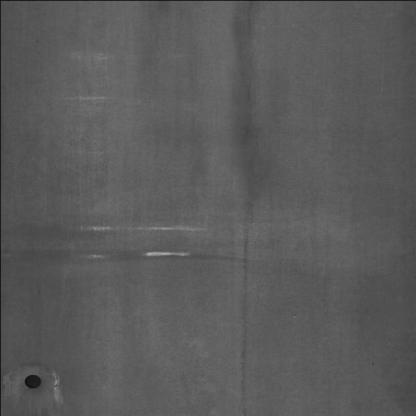punching_hole: (21, 367, 41, 393)
silk_spot: (234, 8, 254, 405)
